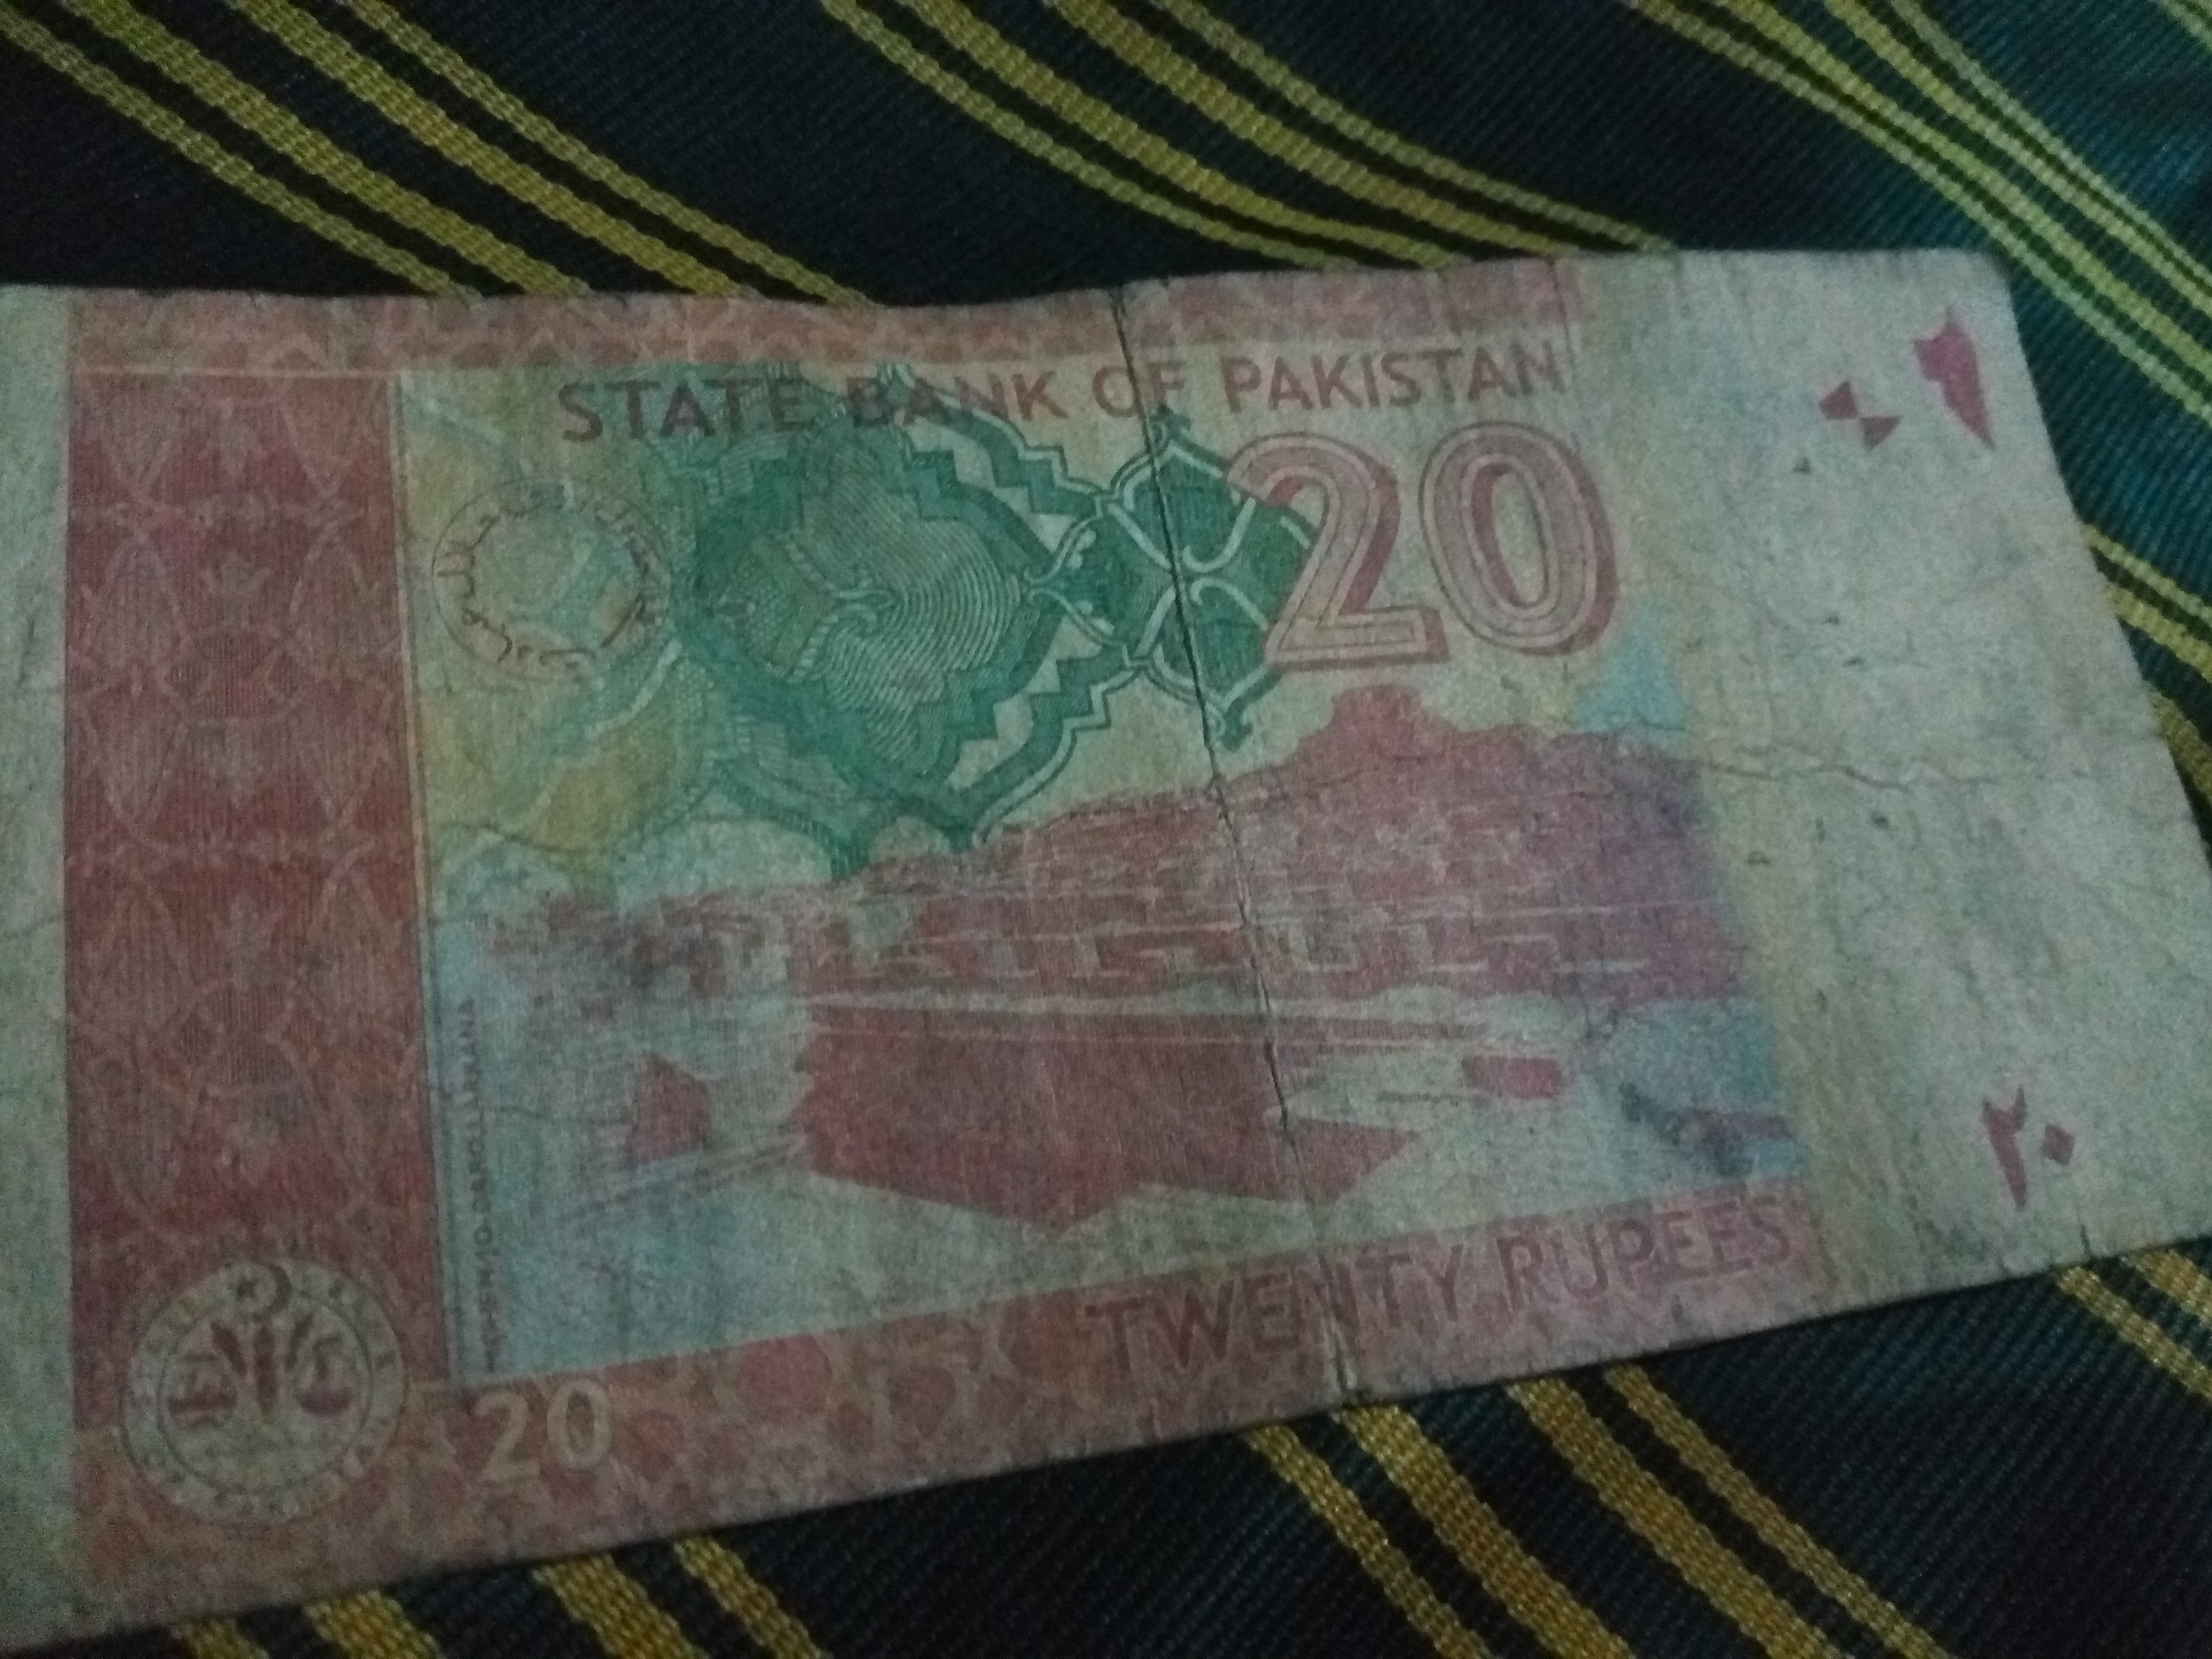20 rupee: (99, 159, 2186, 1631)
